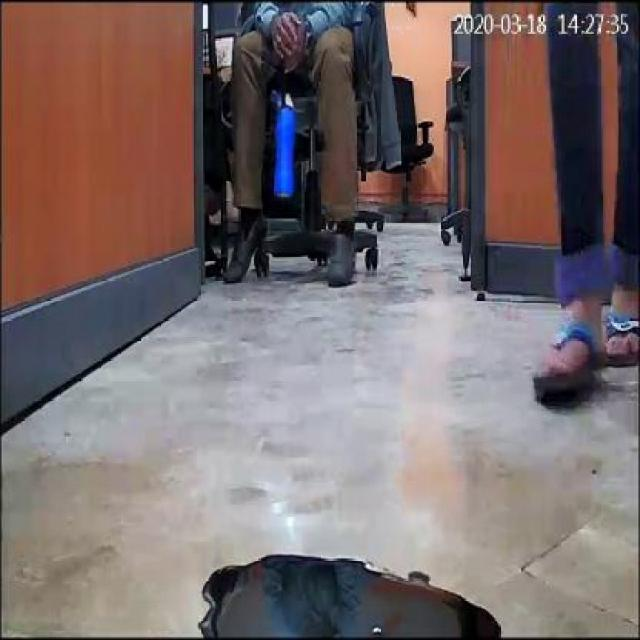spill: (196, 550, 498, 635)
